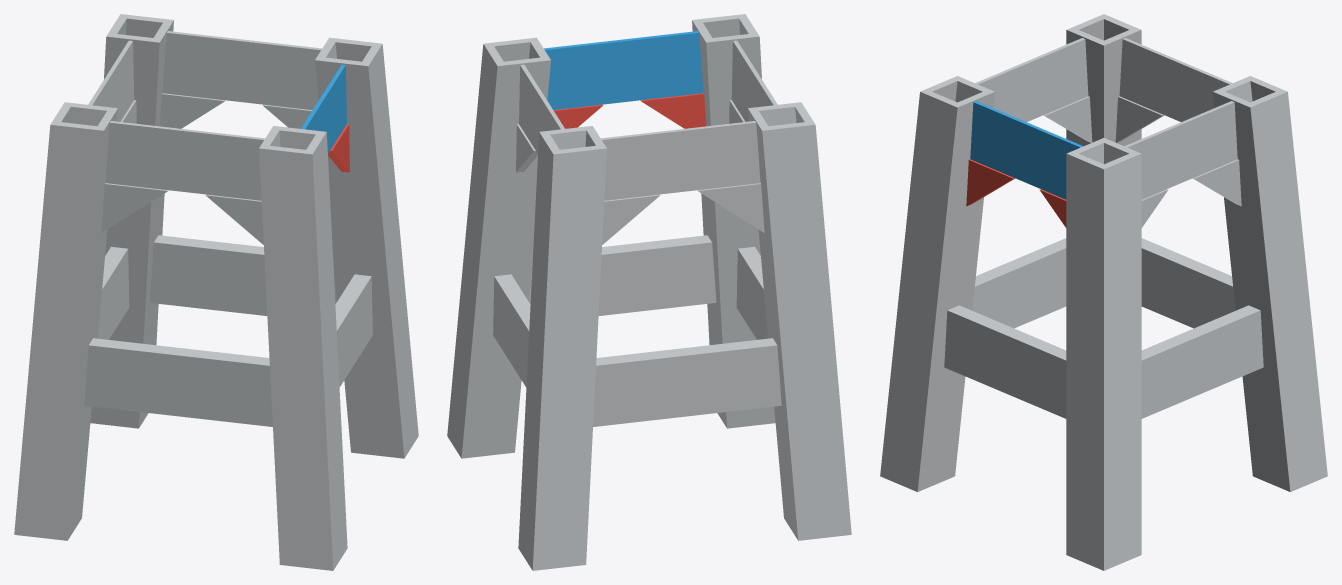
File: UPPER_BELOW.glb
3 renders of one model, left to right at view 1: azimuth 30°, elevation 25°; view 2: azimuth 150°, elevation 25°; view 3: azimuth 270°, elevation 25°, orthographic. The views are drawn at different scales.
Visible parts, largest first — view 1: A01_LEG1_NEG_P1, A02_LEG4_NEG_P1, A02_LEG2_POS_P1, C01_SIDE4_1_P1, B01_SIDE4_1_P1, B01_SIDE2_1_P1, C01_SIDE2_2_P2, A01_LEG2_NEG_P1, A01_LEG3_POS_P1, A02_LEG1_NEG_P1, A01_LEG4_POS_P1, C01_SIDE1_1_P1 (+24 smaller); view 2: A01_LEG4_NEG_P1, A02_LEG3_NEG_P1, A01_LEG2_POS_P1, C01_SIDE3_1_P1, B01_SIDE3_1_P1, B01_SIDE1_1_P1, C01_SIDE1_2_P2, A01_LEG3_NEG_P1, A02_LEG2_NEG_P1, A02_LEG1_POS_P1, A02_LEG4_POS_P1, A01_LEG1_POS_P1 (+24 smaller); view 3: A01_LEG2_NEG_P1, A01_LEG3_NEG_P1, A02_LEG1_NEG_P1, A02_LEG2_NEG_P1, A01_LEG1_POS_P1, A02_LEG3_POS_P1, C01_SIDE1_1_P1, C01_SIDE2_1_P1, B01_SIDE1_1_P1, B01_SIDE2_1_P1, B01_SIDE3_1_P1, B01_SIDE4_1_P1 (+25 smaller).
Part boxes in pixels (x1=…): A01_LEG1_NEG_P1: x1=259, y1=146, x2=334, y2=570; A02_LEG4_NEG_P1: x1=21, y1=124, x2=97, y2=539; A02_LEG2_POS_P1: x1=323, y1=59, x2=398, y2=457; C01_SIDE4_1_P1: x1=84, y1=343, x2=272, y2=426; B01_SIDE4_1_P1: x1=105, y1=121, x2=264, y2=200; B01_SIDE2_1_P1: x1=162, y1=31, x2=321, y2=109; C01_SIDE2_2_P2: x1=149, y1=240, x2=336, y2=315; A01_LEG2_NEG_P1: x1=364, y1=43, x2=418, y2=458; A01_LEG3_POS_P1: x1=90, y1=34, x2=160, y2=428; A02_LEG1_NEG_P1: x1=311, y1=135, x2=345, y2=566; A01_LEG4_POS_P1: x1=63, y1=107, x2=117, y2=540; C01_SIDE1_1_P1: x1=336, y1=275, x2=372, y2=386; A01_LEG4_NEG_P1: x1=761, y1=123, x2=851, y2=540; A02_LEG3_NEG_P1: x1=535, y1=147, x2=602, y2=569; A01_LEG2_POS_P1: x1=460, y1=58, x2=550, y2=458; C01_SIDE3_1_P1: x1=593, y1=343, x2=781, y2=426; B01_SIDE3_1_P1: x1=601, y1=121, x2=760, y2=200; B01_SIDE1_1_P1: x1=544, y1=31, x2=703, y2=109; C01_SIDE1_2_P2: x1=529, y1=240, x2=716, y2=315; A01_LEG3_NEG_P1: x1=518, y1=131, x2=557, y2=570; A02_LEG2_NEG_P1: x1=449, y1=47, x2=499, y2=454; A02_LEG1_POS_P1: x1=709, y1=35, x2=771, y2=427; A02_LEG4_POS_P1: x1=750, y1=111, x2=795, y2=536; A01_LEG1_POS_P1: x1=692, y1=19, x2=731, y2=428; A01_LEG2_NEG_P1: x1=1066, y1=152, x2=1106, y2=570; A01_LEG3_NEG_P1: x1=1247, y1=90, x2=1327, y2=491; A02_LEG1_NEG_P1: x1=886, y1=93, x2=953, y2=489; A02_LEG2_NEG_P1: x1=1101, y1=155, x2=1141, y2=568; A01_LEG1_POS_P1: x1=914, y1=90, x2=994, y2=491; A02_LEG3_POS_P1: x1=1219, y1=93, x2=1285, y2=489; C01_SIDE1_1_P1: x1=944, y1=309, x2=1066, y2=418; C01_SIDE2_1_P1: x1=1141, y1=309, x2=1263, y2=418; B01_SIDE1_1_P1: x1=970, y1=101, x2=1083, y2=199; B01_SIDE2_1_P1: x1=1124, y1=101, x2=1237, y2=199; B01_SIDE3_1_P1: x1=1119, y1=38, x2=1232, y2=121; B01_SIDE4_1_P1: x1=975, y1=38, x2=1088, y2=121.
Bounding box in the file's own units: 0.4221 × 0.4 × 0.4221.
